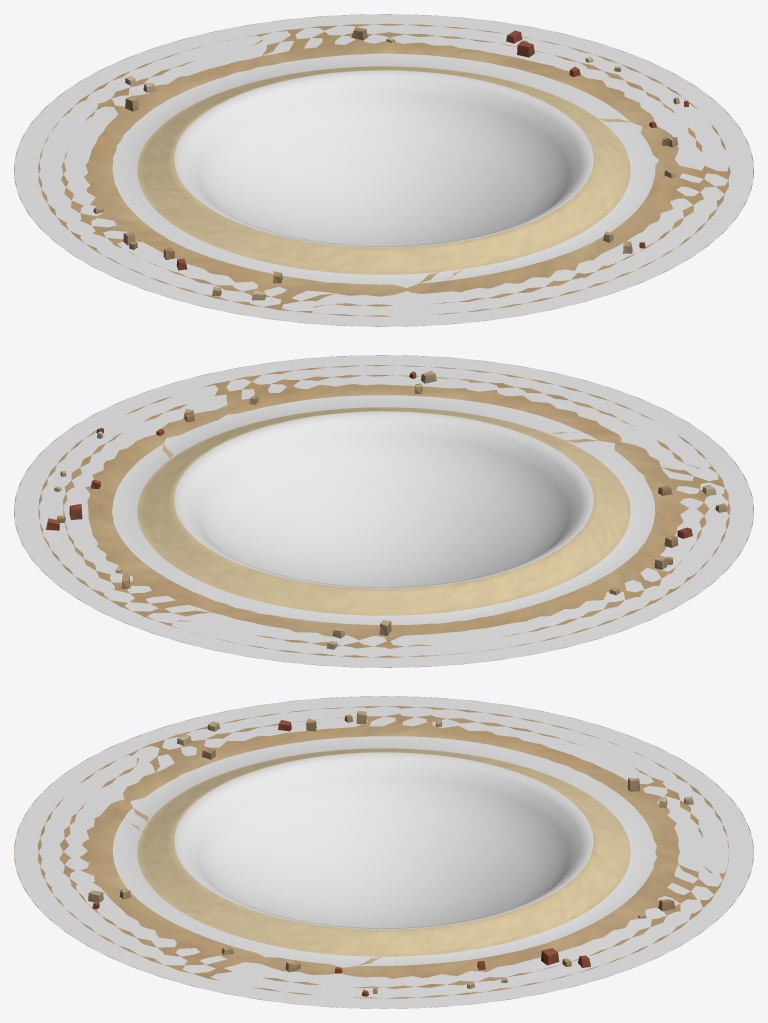
File: crater_ending.glb
3 views of the same model, one above another, from view 1: azimuth 30°, elevation 25°; view 2: azimuth 150°, elevation 25°; view 3: azimuth 270°, elevation 25° (orthographic).
Parts seen in each view (by area): view 1: crater_ending-col-col, Bowl; view 2: crater_ending-col-col, Bowl; view 3: crater_ending-col-col, Bowl.
Boxes of the visible parts, x1,y1,x2,y2 form: crater_ending-col-col: (14,14,753,326); Bowl: (14,14,753,326); crater_ending-col-col: (14,355,753,667); Bowl: (14,355,753,667); crater_ending-col-col: (14,696,753,1008); Bowl: (14,696,753,1008).
Size of the model in its own units: 705 by 72.33 by 705.
